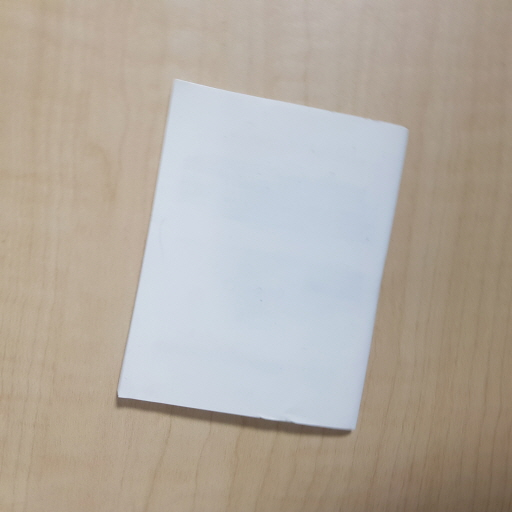Paper_0: (114, 67, 415, 452)
